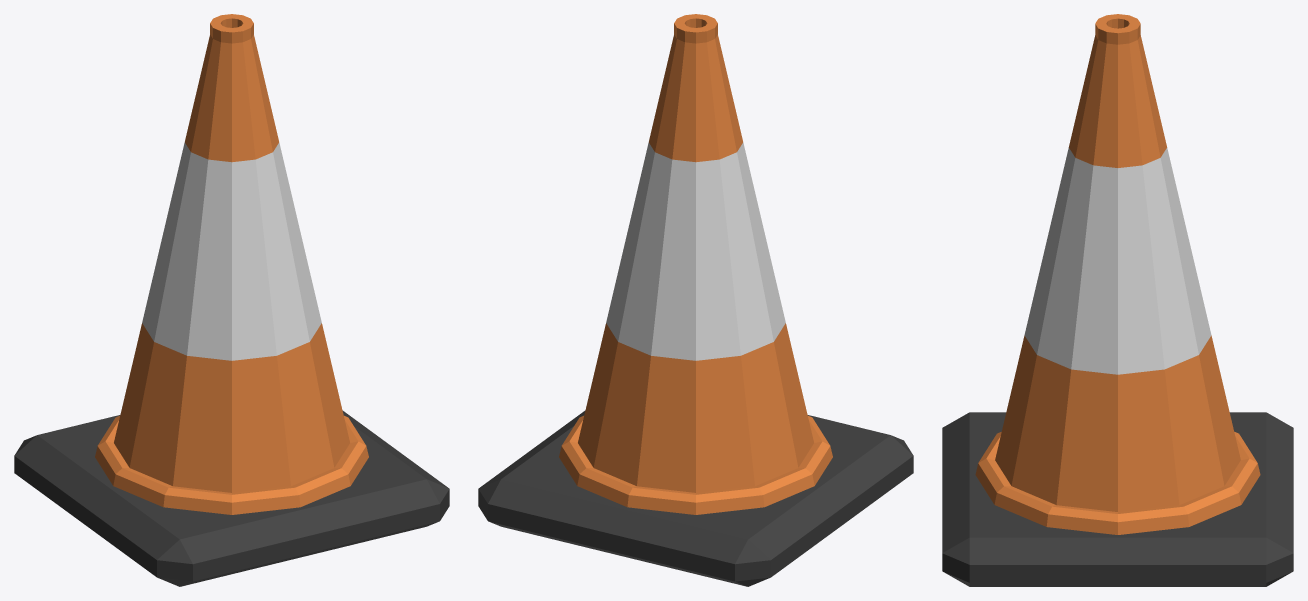
3 views of the same model, side by side, from view 1: azimuth 30°, elevation 25°; view 2: azimuth 150°, elevation 25°; view 3: azimuth 270°, elevation 25° (orthographic). The views are drawn at different scales.
Parts seen in each view (by area): view 1: Cone B; view 2: Cone B; view 3: Cone B.
Boxes of the visible parts, left/top/right/bottom form: Cone B: left=14, top=14, right=449, bottom=586; Cone B: left=478, top=14, right=913, bottom=586; Cone B: left=942, top=14, right=1293, bottom=586.
Bounding box in the file's own units: 94.44 × 148 × 94.44.
